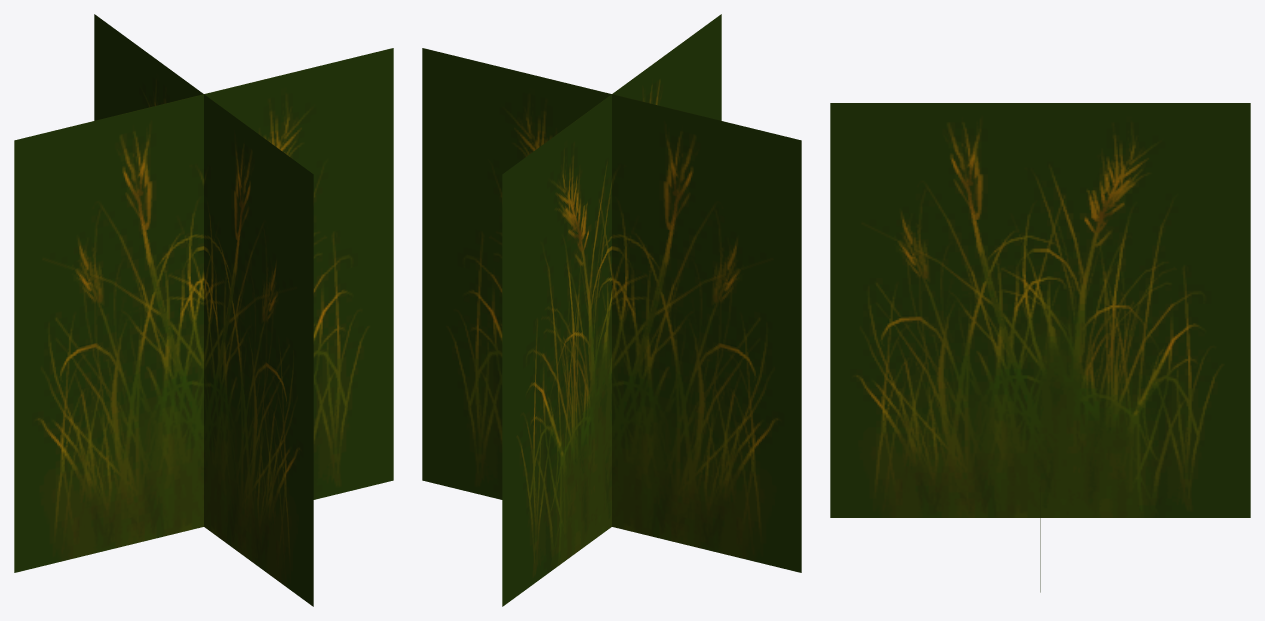
The model's file is INST_TROLLHOLE_GRASSPLANT.fbx.
The picture shows the model from 3 angles, left to right: view 1: azimuth 30°, elevation 25°; view 2: azimuth 150°, elevation 25°; view 3: azimuth 270°, elevation 25°; orthographic projection. The views are drawn at different scales.
Visible parts, largest first — view 1: INST_TROLLHOLE_GRASSPLANT; view 2: INST_TROLLHOLE_GRASSPLANT; view 3: INST_TROLLHOLE_GRASSPLANT.
Boxes of the visible parts, x1,y1,x2,y2 form: INST_TROLLHOLE_GRASSPLANT: (14, 14, 393, 606); INST_TROLLHOLE_GRASSPLANT: (422, 14, 801, 606); INST_TROLLHOLE_GRASSPLANT: (830, 103, 1250, 592).
Bounding box in the file's own units: 7789 × 8487 × 7789.
Materials: 1 (1 with a texture image).
